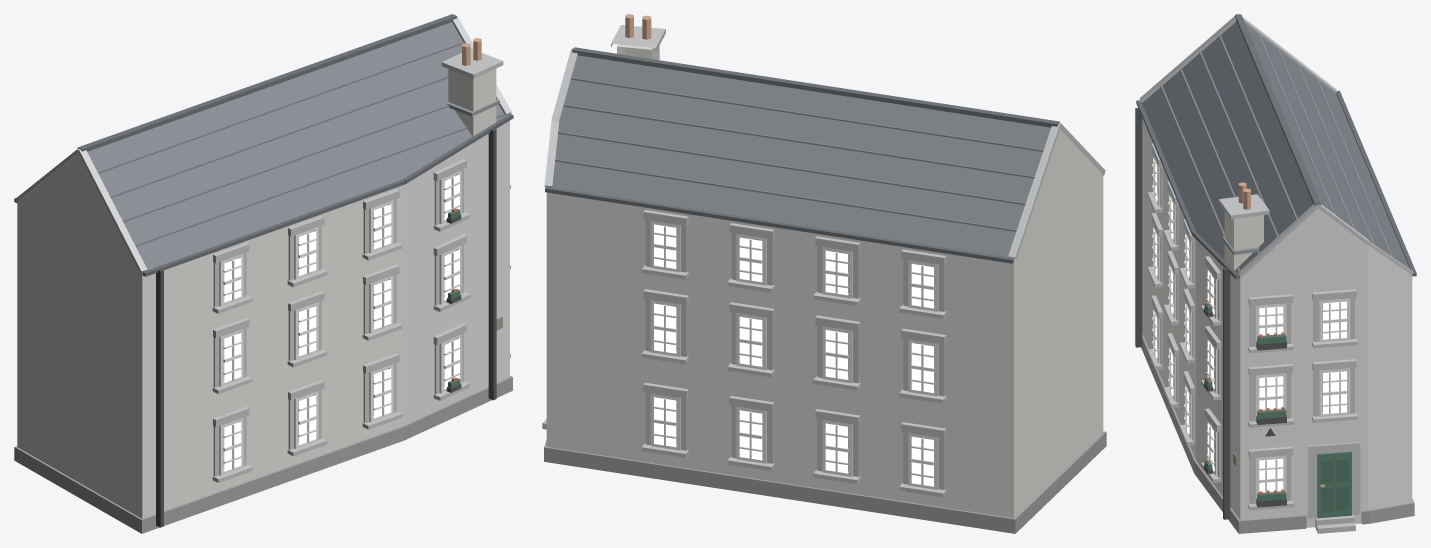
The picture shows the model from 3 angles, left to right: view 1: azimuth 30°, elevation 25°; view 2: azimuth 150°, elevation 25°; view 3: azimuth 270°, elevation 25°; orthographic projection. The views are drawn at different scales.
Parts seen in each view (by area): view 1: harl001, slate001, stone_band001, frame001, plinth001, slate_dk001, pipe001, slate_lt001, chim_render001, window_glass_011, window_glass_013, window_glass_016 (+3 smaller); view 2: harl001, slate001, stone_band001, frame001, plinth001, slate_dk001, slate_lt001, window_glass_025, window_glass_026, window_glass_020, window_glass_023, window_glass_022 (+7 smaller); view 3: harl001, slate001, stone_band001, frame001, pipe001, slate_dk001, slate_lt001, plinth001, door_green001, chim_render001, door_green_p001, window_glass_005 (+4 smaller).
Boxes of the visible parts, x1,y1,x2,y2 form: harl001: [17, 120, 509, 518]; slate001: [87, 22, 508, 272]; stone_band001: [15, 14, 511, 482]; frame001: [219, 170, 461, 475]; plinth001: [14, 375, 512, 533]; slate_dk001: [14, 14, 513, 276]; pipe001: [156, 128, 496, 527]; slate_lt001: [97, 41, 505, 246]; chim_render001: [448, 68, 496, 136]; window_glass_011: [374, 279, 391, 329]; window_glass_013: [299, 395, 316, 445]; window_glass_016: [224, 421, 241, 471]; harl001: [546, 129, 1103, 518]; slate001: [550, 55, 1050, 258]; stone_band001: [542, 25, 1105, 497]; frame001: [650, 220, 938, 489]; plinth001: [544, 431, 1106, 533]; slate_dk001: [545, 47, 1104, 263]; slate_lt001: [555, 77, 1043, 231]; window_glass_025: [739, 410, 762, 460]; window_glass_026: [739, 316, 762, 366]; window_glass_020: [911, 343, 933, 392]; window_glass_023: [825, 330, 847, 379]; window_glass_022: [825, 423, 847, 473]; harl001: [1142, 118, 1412, 527]; slate001: [1142, 21, 1409, 274]; stone_band001: [1139, 14, 1413, 533]; frame001: [1152, 156, 1350, 504]; pipe001: [1135, 107, 1286, 519]; slate_dk001: [1136, 14, 1416, 279]; slate_lt001: [1160, 33, 1393, 271]; plinth001: [1141, 333, 1414, 533]; door_green001: [1204, 303, 1351, 518]; chim_render001: [1224, 211, 1263, 270]; door_green_p001: [1321, 459, 1348, 511]; window_glass_005: [1323, 371, 1346, 414].
Size of the model in its own units: 13.81 by 10.39 by 8.04.
